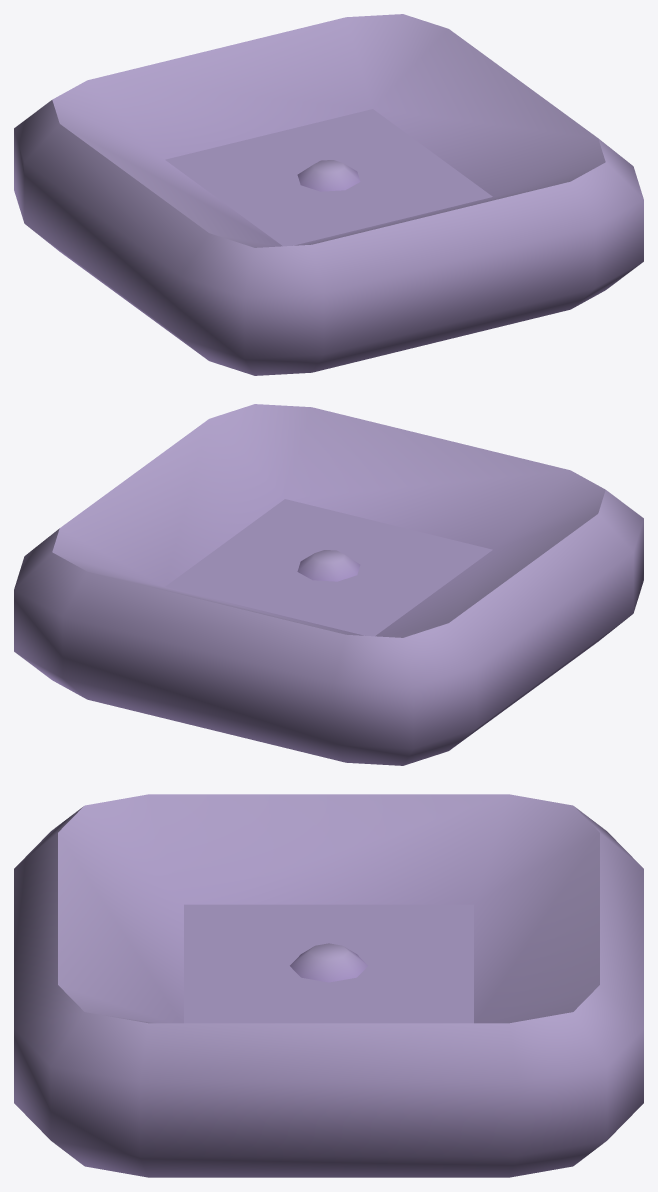
File: cushion-indent-square-rounded_0.glb
The picture shows the model from 3 angles, top to bottom: view 1: azimuth 30°, elevation 25°; view 2: azimuth 150°, elevation 25°; view 3: azimuth 270°, elevation 25°; orthographic projection. The views are drawn at different scales.
Parts seen in each view (by area): view 1: cushion-indent-square-rounded; view 2: cushion-indent-square-rounded; view 3: cushion-indent-square-rounded.
Part boxes in pixels (x1=…): cushion-indent-square-rounded: x1=14, y1=14, x2=643, y2=375; cushion-indent-square-rounded: x1=14, y1=404, x2=643, y2=765; cushion-indent-square-rounded: x1=14, y1=794, x2=643, y2=1177.
Bounding box in the file's own units: 0.5 × 0.1352 × 0.5.
